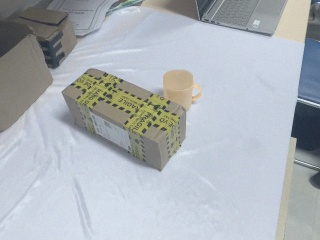box: (61, 68, 187, 172), (1, 18, 53, 135)
cup: (163, 69, 202, 112)
